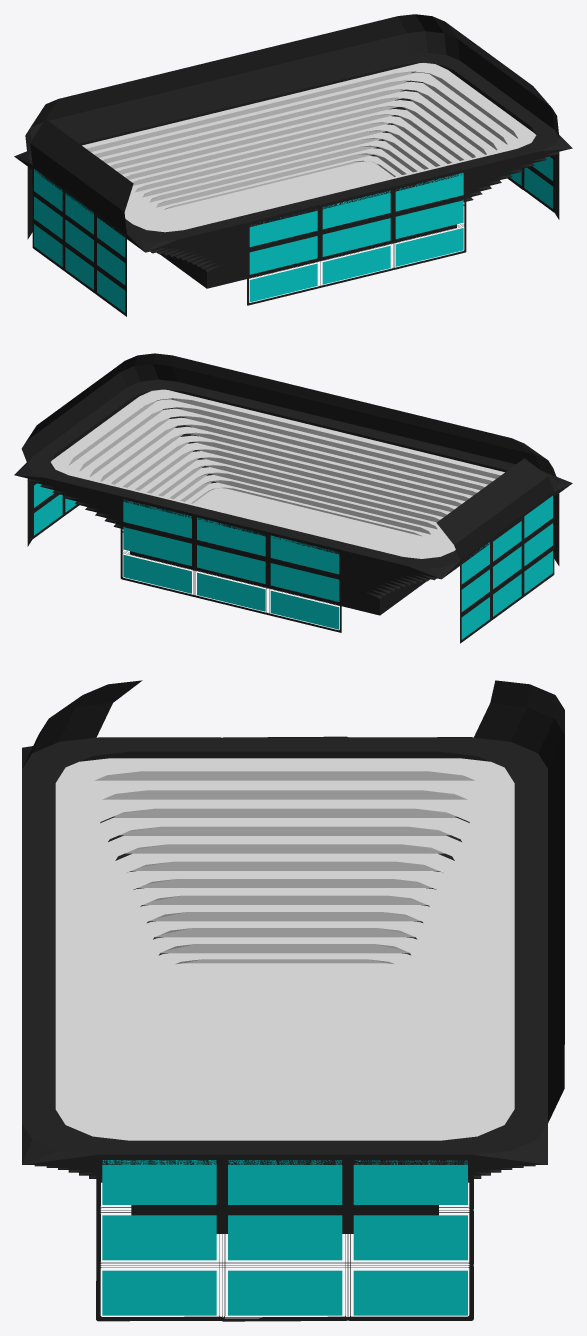
Rendered from ParaCarrera.fbx.
The picture shows the model from 3 angles, top to bottom: view 1: azimuth 30°, elevation 25°; view 2: azimuth 150°, elevation 25°; view 3: azimuth 270°, elevation 25°; orthographic projection. The views are drawn at different scales.
Visible parts, largest first — view 1: Plano.001, Plano; view 2: Plano.001, Plano; view 3: Plano.001, Plano.
Part boxes in pixels (<box>): Plano.001: <box>14,14,572,316</box>; Plano: <box>82,63,536,232</box>; Plano.001: <box>14,353,572,643</box>; Plano: <box>51,389,504,558</box>; Plano.001: <box>22,680,564,1321</box>; Plano: <box>55,758,514,1140</box>.
Bounding box in the file's own units: 697 × 188 × 382.
